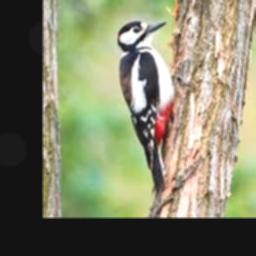Woodpecker: (117, 22, 175, 195)
